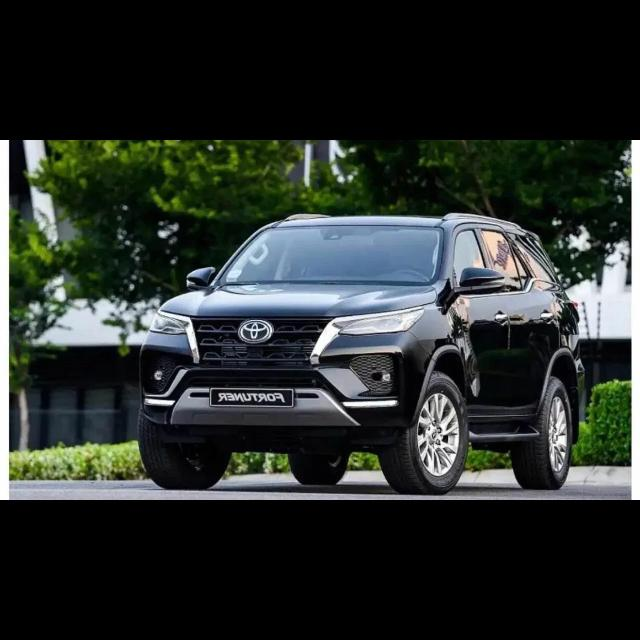vehicles: (134, 213, 588, 491)
